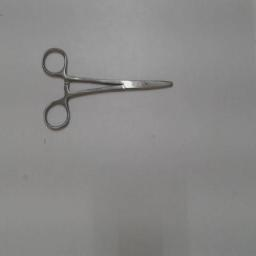Mayo Needle Holder: (39, 42, 177, 134)
